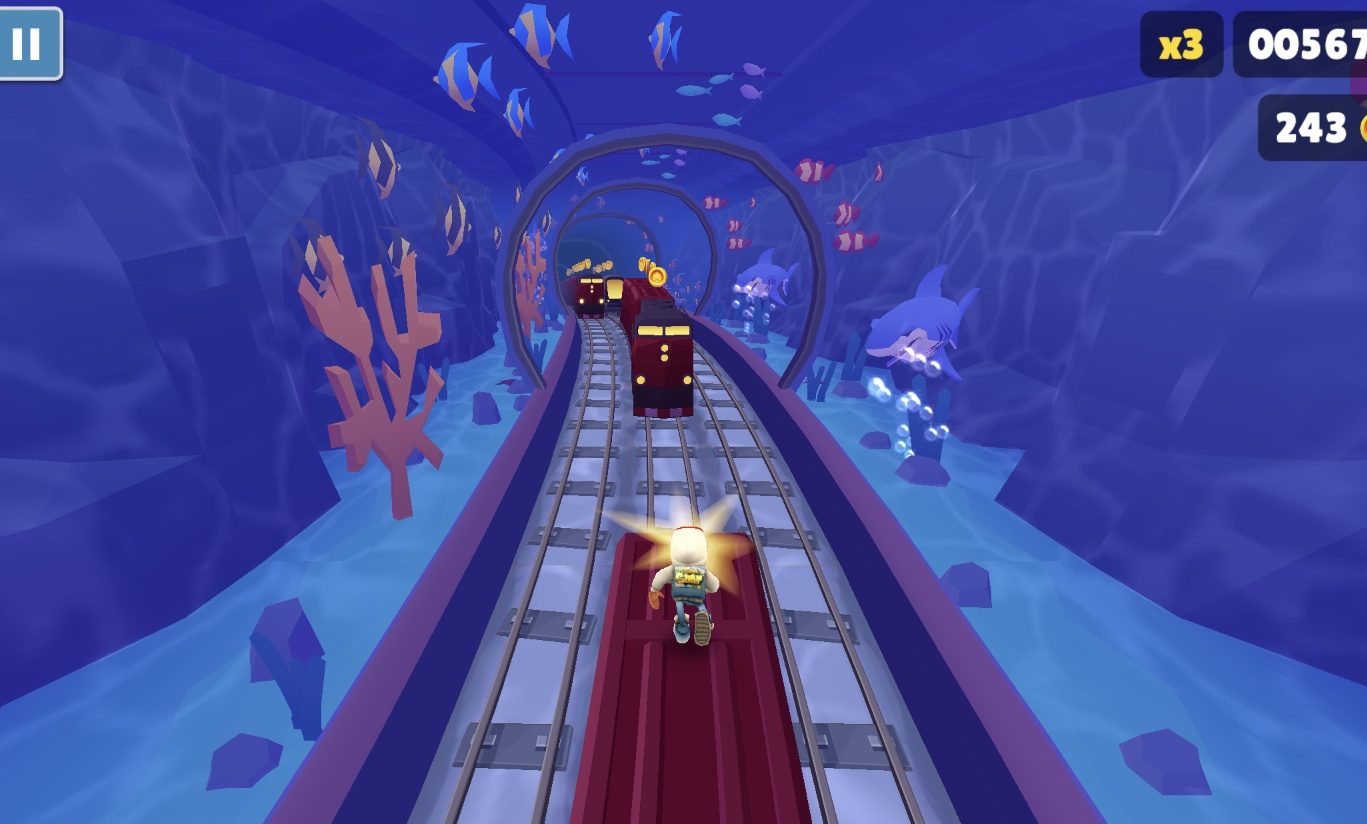train: (570, 534, 833, 824), (613, 279, 695, 419), (567, 276, 605, 320), (605, 278, 626, 323)
